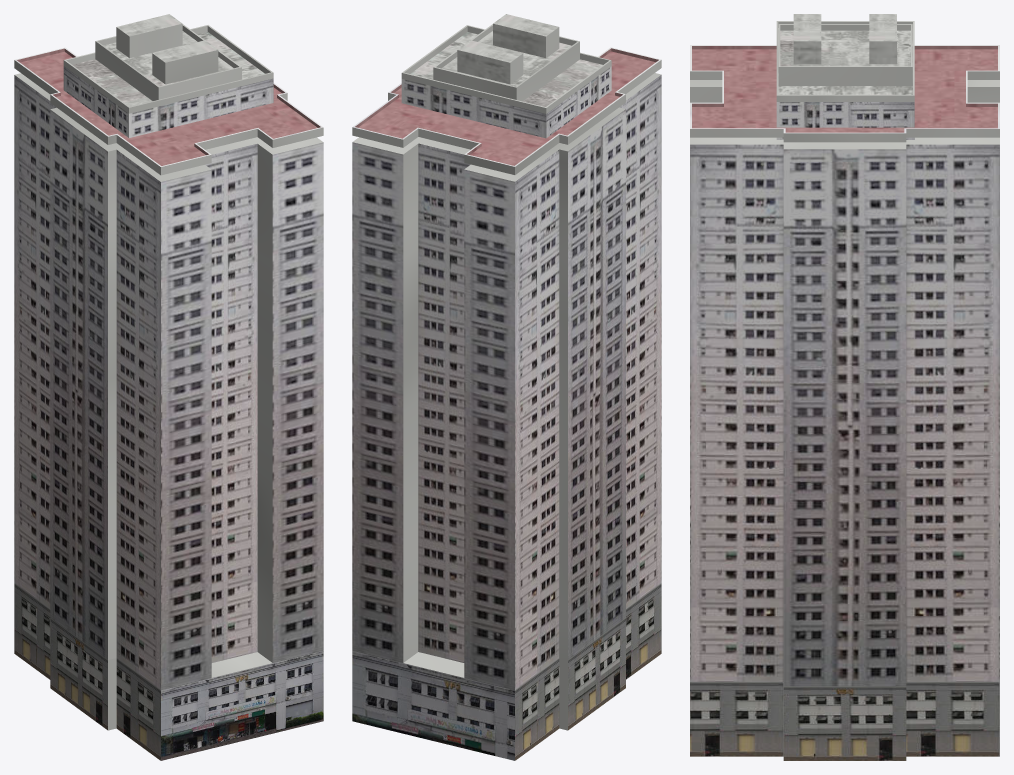
3 views of the same model, side by side, from view 1: azimuth 30°, elevation 25°; view 2: azimuth 150°, elevation 25°; view 3: azimuth 270°, elevation 25° (orthographic). The views are drawn at different scales.
Parts seen in each view (by area): view 1: 5db2c90c0318991ff86c2f80; view 2: 5db2c90c0318991ff86c2f80; view 3: 5db2c90c0318991ff86c2f80.
Part boxes in pixels (<box>): 5db2c90c0318991ff86c2f80: <box>14,14,323,760</box>; 5db2c90c0318991ff86c2f80: <box>352,14,661,760</box>; 5db2c90c0318991ff86c2f80: <box>690,14,999,760</box>.
Size of the model in its own units: 36.45 by 126 by 51.46.
1 material, 1 textured.
